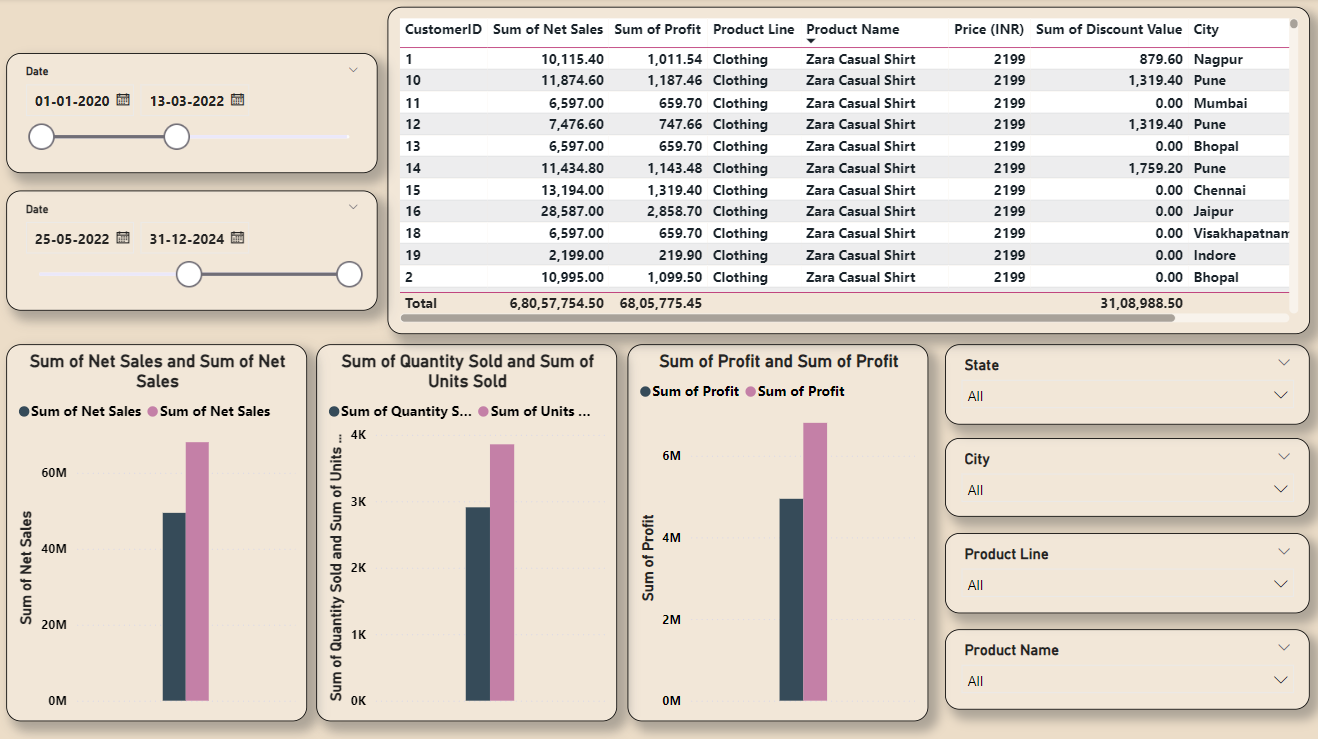

This screenshot's page, from the dashboard's own definition file:
{"tool":"powerbi","page":{"name":"Page 3","canvas":[1280,720],"ordinal":2},"visuals":[{"type":"slicer","fields":{"Values":["Date Table 1.Date"]},"box":[10.9,53.1,358.3,115.8],"z":0},{"type":"slicer","fields":{"Values":["Date Table 2.Date"]},"box":[10.9,185.8,358.3,115.8],"z":1000},{"type":"clusteredColumnChart","fields":{"Y":["Date Table 1.Sum of Net Sales","Sum(Fact Table.Net Sales)"]},"box":[10.9,334.2,290.8,364.3],"z":2000},{"type":"clusteredColumnChart","fields":{"Y":["Date Table 1.Sum of Profit","Sum(Fact Table.Profit)"]},"box":[610.5,334.2,290.8,364.3],"z":3000},{"type":"clusteredColumnChart","fields":{"Y":["Date Table 1.Sum of Quantity Sold","Sum(Fact Table.Units Sold)"]},"box":[310.1,334.2,290.8,364.3],"z":4000},{"type":"slicer","fields":{"Values":["Dim Customers.State"]},"box":[916.9,334.2,352.3,77.2],"z":5000},{"type":"slicer","fields":{"Values":["Dim Customers.City"]},"box":[916.9,424.7,352.3,76],"z":6000},{"type":"slicer","fields":{"Values":["Dim Product.Product Line"]},"box":[916.9,516.4,352.3,77.2],"z":7000},{"type":"tableEx","fields":{"Values":["Fact Table.CustomerID","Sum(Fact Table.Net Sales)","Sum(Fact Table.Profit)","Dim Product.Product Line","Dim Product.Product Name","Dim Product.Price (INR)","Sum(Fact Table.Discount Value)","Dim Customers.City","Dim Customers.State"]},"box":[378.8,8.4,890.4,316.1],"z":8000},{"type":"slicer","fields":{"Values":["Dim Product.Product Name"]},"box":[916.9,609.3,352.3,77.2],"z":9000}]}

Visuals, with their boxes in screenshot pixels (x1, y1, x2, y2), scaled from the page's 1280x720 canvas onto the 1318x739 screenshot:
slicer - Date Table 1.Date: box(11, 55, 380, 173)
slicer - Date Table 2.Date: box(11, 191, 380, 310)
clusteredColumnChart - Date Table 1.Sum of Net Sales x Sum(Fact Table.Net Sales): box(11, 343, 311, 717)
clusteredColumnChart - Date Table 1.Sum of Profit x Sum(Fact Table.Profit): box(629, 343, 928, 717)
clusteredColumnChart - Date Table 1.Sum of Quantity Sold x Sum(Fact Table.Units Sold): box(319, 343, 619, 717)
slicer - Dim Customers.State: box(944, 343, 1307, 422)
slicer - Dim Customers.City: box(944, 436, 1307, 514)
slicer - Dim Product.Product Line: box(944, 530, 1307, 609)
tableEx - Fact Table.CustomerID x Sum(Fact Table.Net Sales): box(390, 9, 1307, 333)
slicer - Dim Product.Product Name: box(944, 625, 1307, 705)
